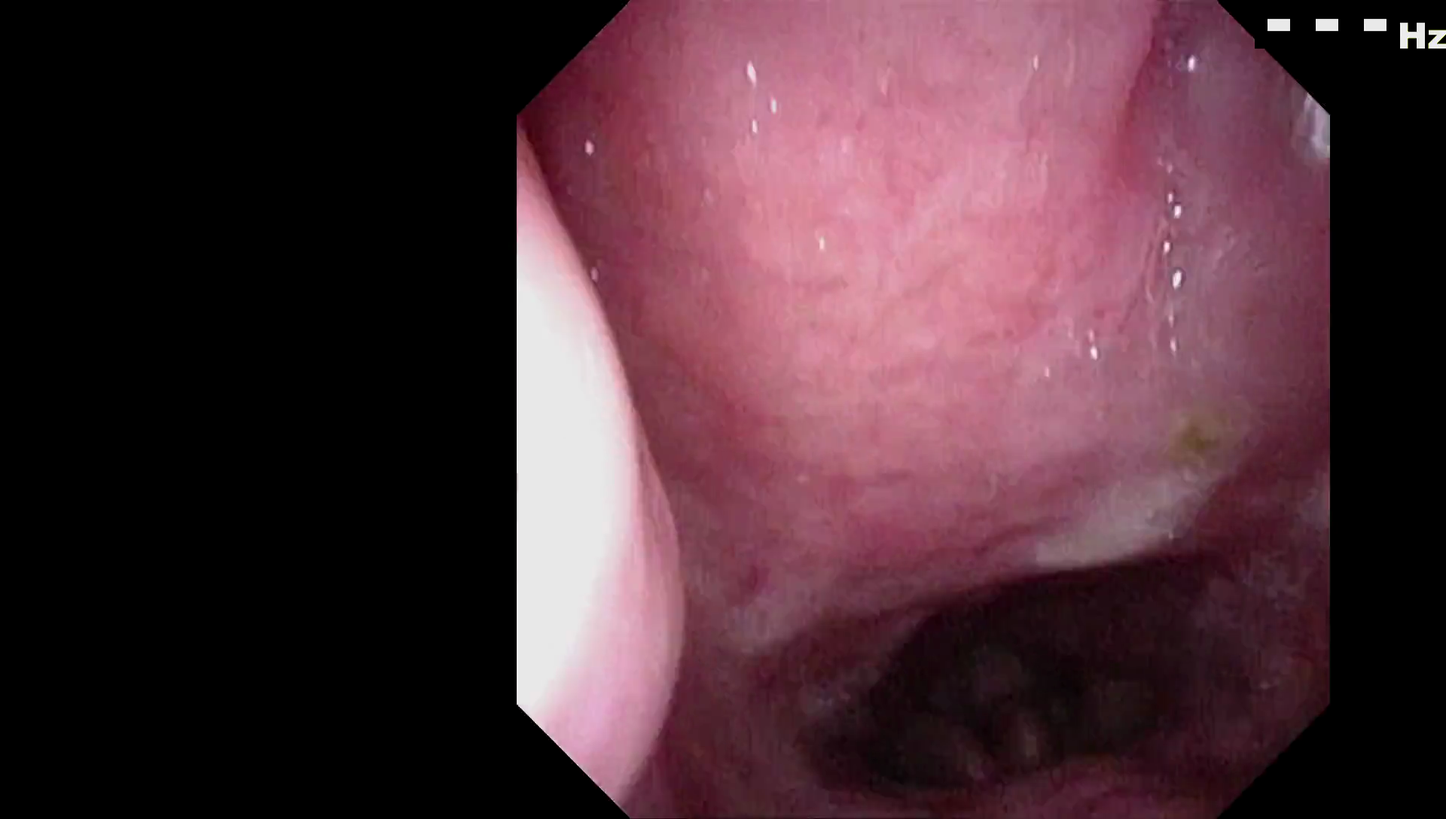close_wall: (521, 193, 693, 772)
next: (828, 535, 1215, 819)
